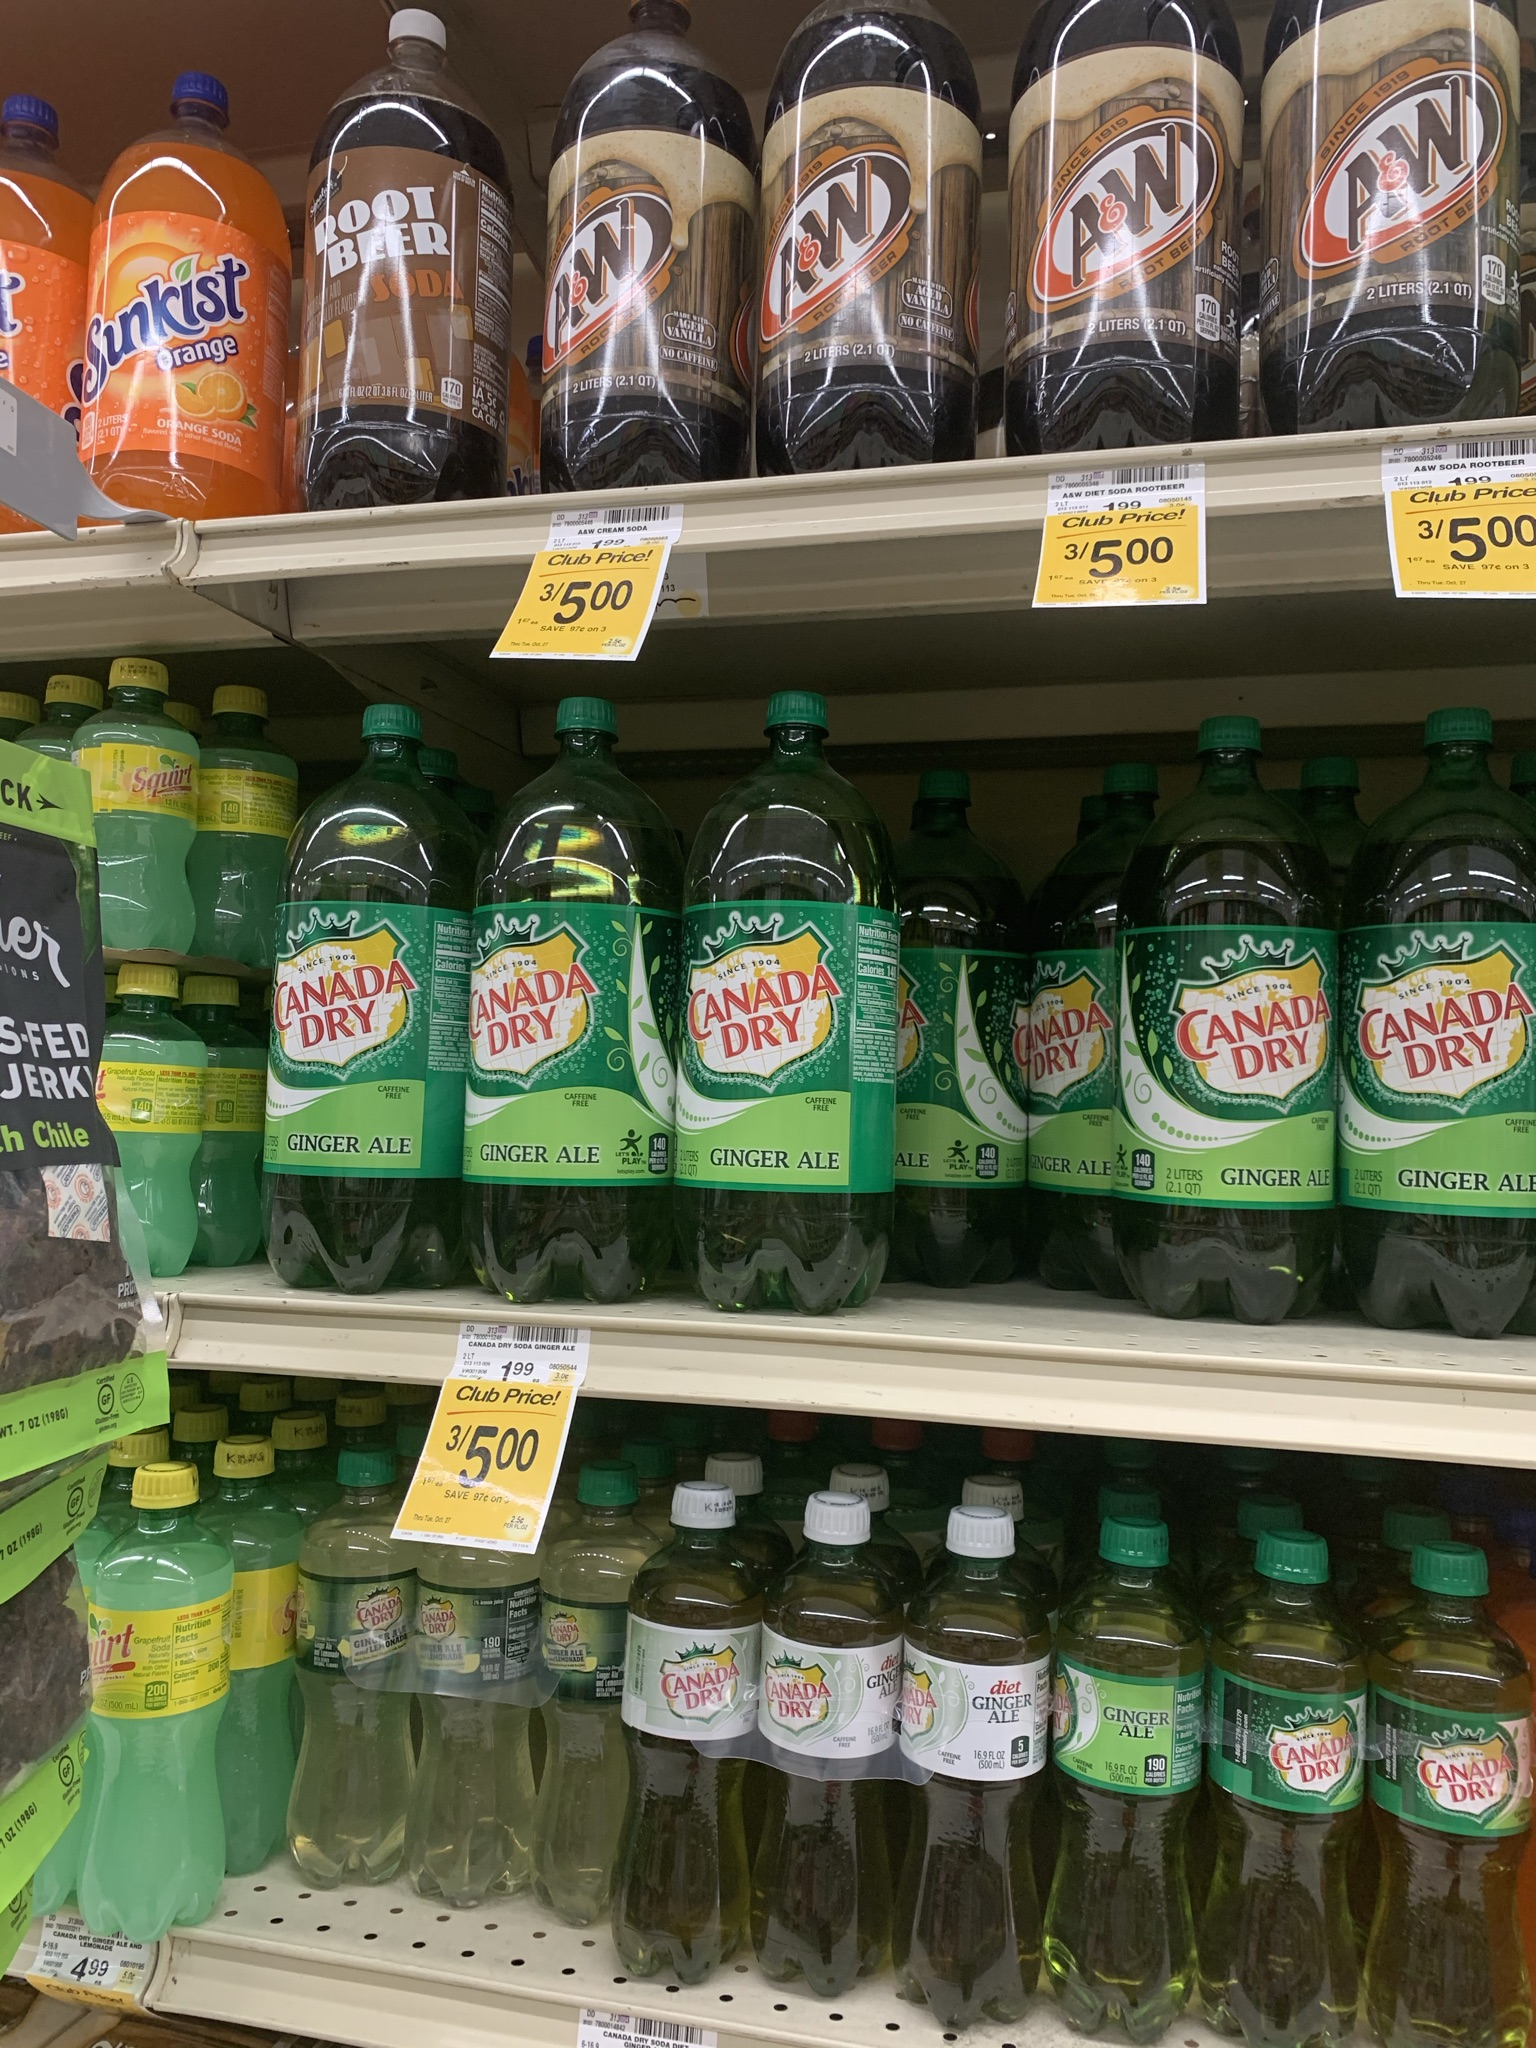Soda: (1113, 710, 1338, 1330), (682, 687, 897, 1317), (461, 695, 679, 1305), (1342, 703, 1536, 1335), (260, 695, 460, 1288), (1260, 2, 1526, 434), (537, 6, 760, 479), (760, 2, 983, 471), (297, 11, 508, 505), (1007, 5, 1244, 443), (81, 69, 289, 511), (1205, 1524, 1368, 2045), (1367, 1542, 1534, 2046), (1050, 1513, 1204, 2045), (899, 1505, 1049, 2037), (608, 1485, 760, 1995), (81, 1456, 231, 1946), (762, 1493, 900, 2003), (290, 1447, 405, 1892), (89, 656, 197, 956)
